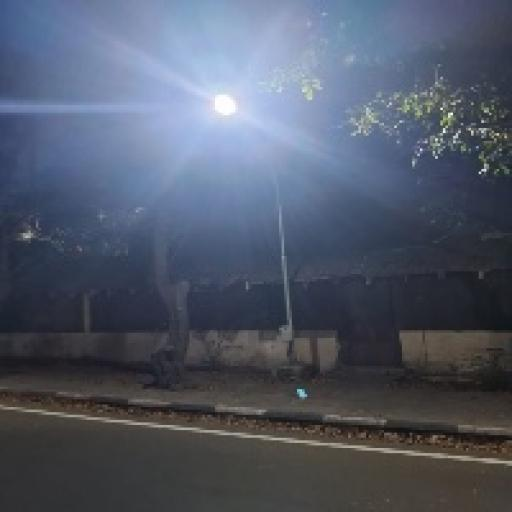Working: (202, 87, 254, 127)
